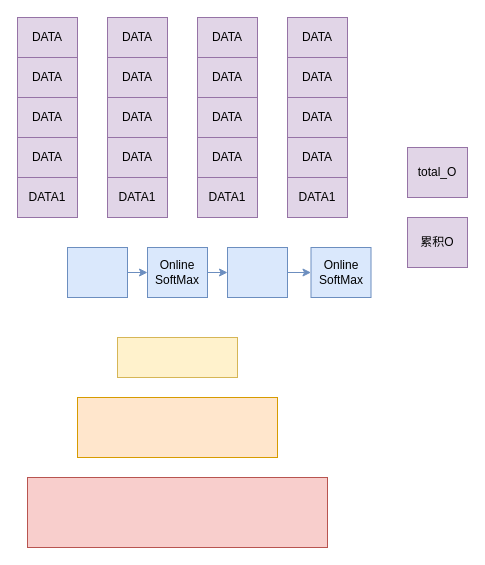
Some shapes in this 485 by 565 pixel diagram are drawn without their labels. Here are the shapes that lost their labels. From the top down, the box of each, then its label:
(66, 246, 128, 298): QK MAC
(226, 246, 288, 298): PV MAC
(116, 336, 238, 378): L1/Share：Size 4MB
(76, 396, 278, 458): L2：Size 16MB
(26, 476, 328, 548): L3/Dram：Size 非常大
